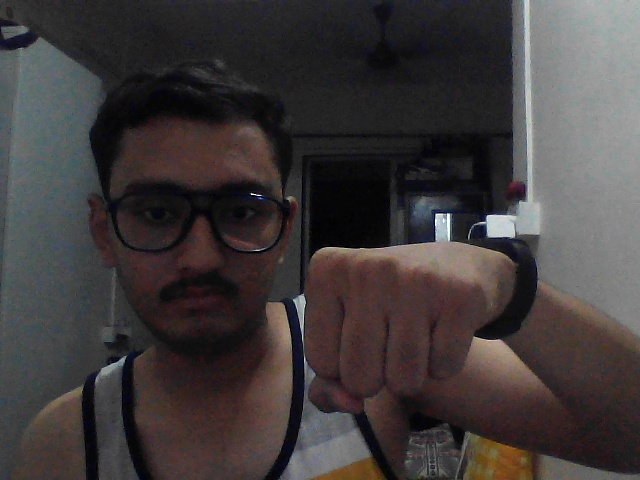Yes: (286, 218, 536, 431)
